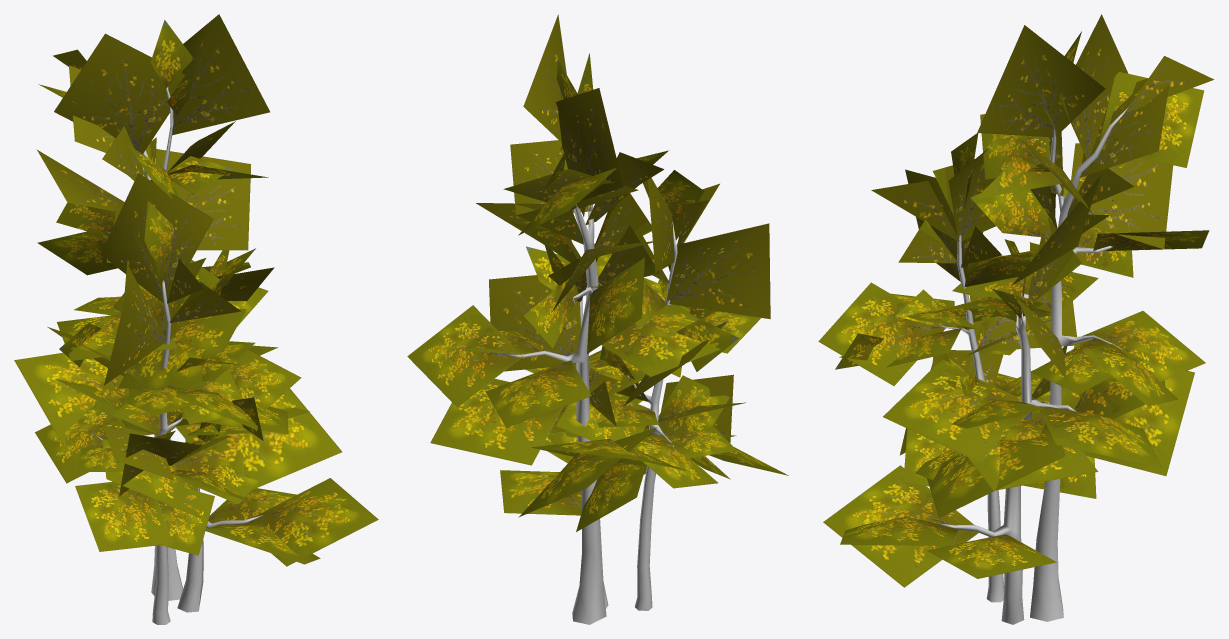
Rendered from JiaYeSiWai1_ShuHuang_4.FBX.
The picture shows the model from 3 angles, left to right: view 1: azimuth 30°, elevation 25°; view 2: azimuth 150°, elevation 25°; view 3: azimuth 270°, elevation 25°; orthographic projection. The views are drawn at different scales.
Visible parts, largest first — view 1: JiaYeSiWai1_ShuHuang_4a, JiaYeSiWai1_ShuHuang_4b; view 2: JiaYeSiWai1_ShuHuang_4a, JiaYeSiWai1_ShuHuang_4b; view 3: JiaYeSiWai1_ShuHuang_4a, JiaYeSiWai1_ShuHuang_4b.
Part boxes in pixels (left/top/right/bottom): JiaYeSiWai1_ShuHuang_4a: left=14, top=14, right=378, bottom=566; JiaYeSiWai1_ShuHuang_4b: left=89, top=87, right=262, bottom=624; JiaYeSiWai1_ShuHuang_4a: left=407, top=14, right=788, bottom=531; JiaYeSiWai1_ShuHuang_4b: left=496, top=117, right=677, bottom=624; JiaYeSiWai1_ShuHuang_4a: left=818, top=14, right=1214, bottom=587; JiaYeSiWai1_ShuHuang_4b: left=940, top=107, right=1128, bottom=624.
Size of the model in its own units: 733 by 1538 by 901.
